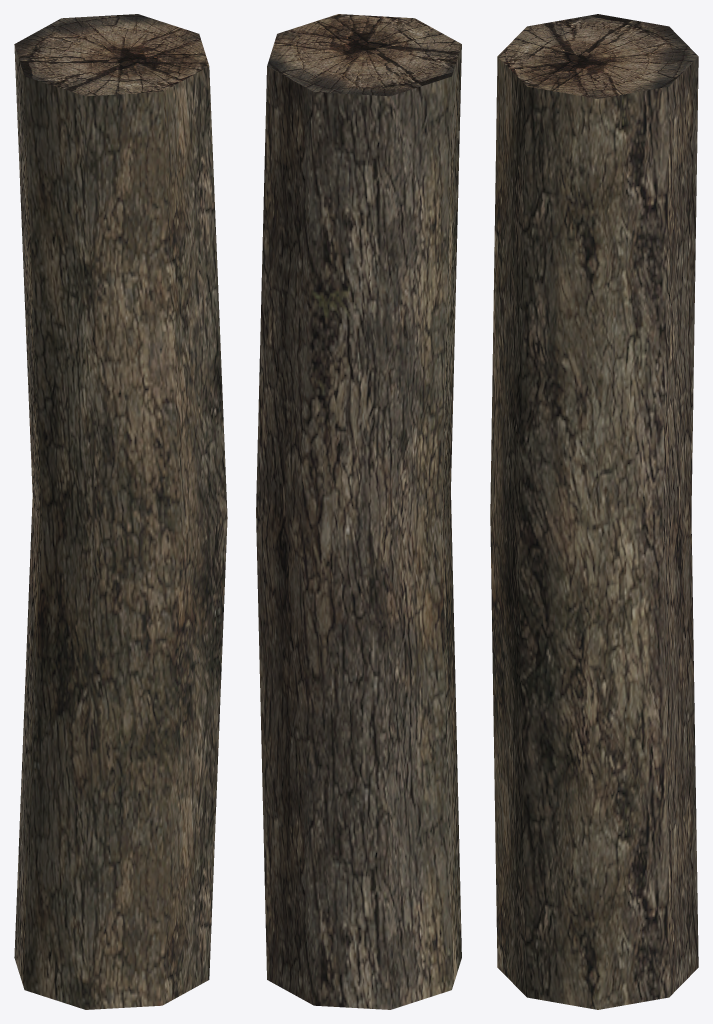
Rendered from woodenPost03.FBX.
The picture shows the model from 3 angles, left to right: view 1: azimuth 30°, elevation 25°; view 2: azimuth 150°, elevation 25°; view 3: azimuth 270°, elevation 25°; orthographic projection.
Parts seen in each view (by area): view 1: wooden_fence_pole1; view 2: wooden_fence_pole1; view 3: wooden_fence_pole1.
Part boxes in pixels (x1=…): wooden_fence_pole1: x1=14, y1=14, x2=227, y2=1009; wooden_fence_pole1: x1=256, y1=14, x2=461, y2=1009; wooden_fence_pole1: x1=490, y1=14, x2=698, y2=1009.
Size of the model in its own units: 30.99 by 143 by 29.62.
